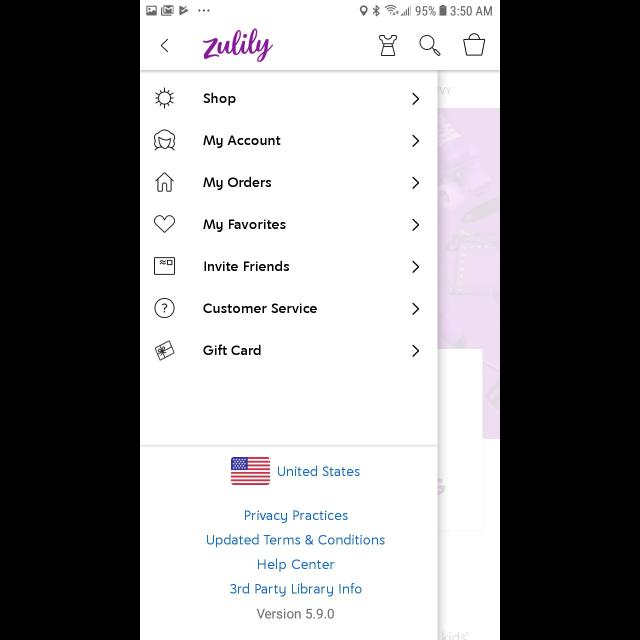icon: (463, 34, 485, 56), (154, 298, 176, 318), (420, 35, 440, 57), (155, 341, 175, 361), (154, 257, 176, 275), (154, 215, 176, 233), (156, 172, 174, 192), (161, 39, 169, 53), (412, 92, 420, 106), (412, 134, 420, 148), (412, 218, 420, 232), (412, 302, 420, 316), (412, 344, 420, 358), (412, 177, 420, 190), (413, 260, 419, 274)
image: (203, 29, 273, 63), (232, 457, 270, 485), (154, 130, 176, 150), (156, 88, 174, 109), (379, 36, 397, 56)
panel: (140, 70, 438, 640)
text: (207, 534, 385, 548), (230, 583, 362, 597), (245, 511, 348, 524), (203, 303, 317, 313), (258, 558, 334, 572), (204, 260, 290, 272), (204, 220, 286, 232), (204, 177, 272, 191), (257, 608, 335, 620), (203, 136, 280, 148), (278, 466, 360, 476), (203, 344, 260, 356), (204, 92, 236, 106)
uppertaskbar: (140, 1, 500, 18)
